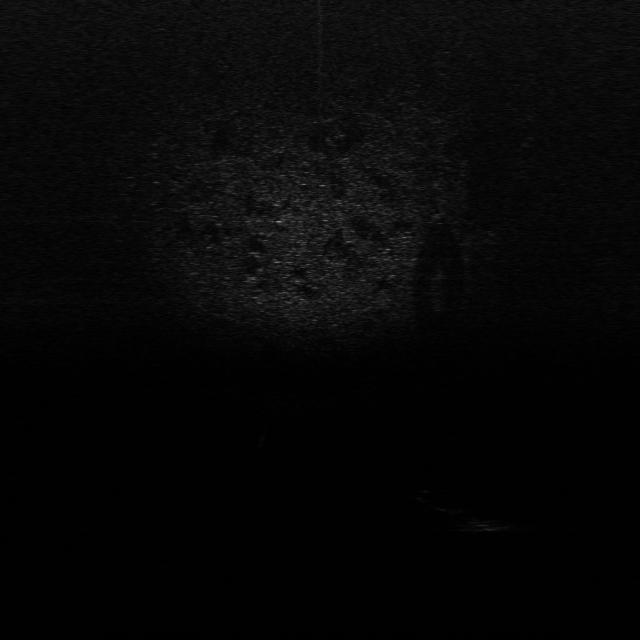metal bucket: (462, 515, 518, 534)
tyre: (416, 487, 466, 516)
